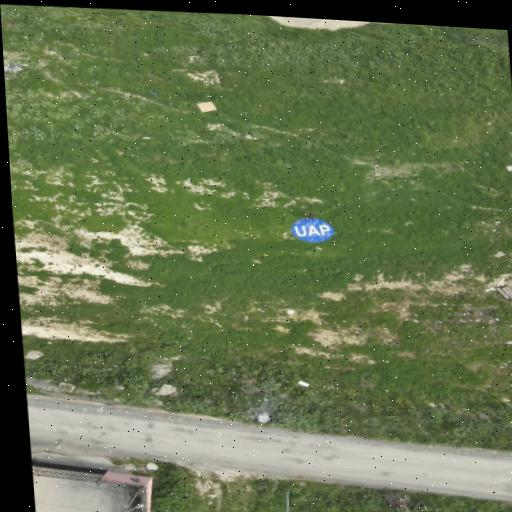person: (307, 214, 314, 219)
uap: (291, 218, 333, 243)
